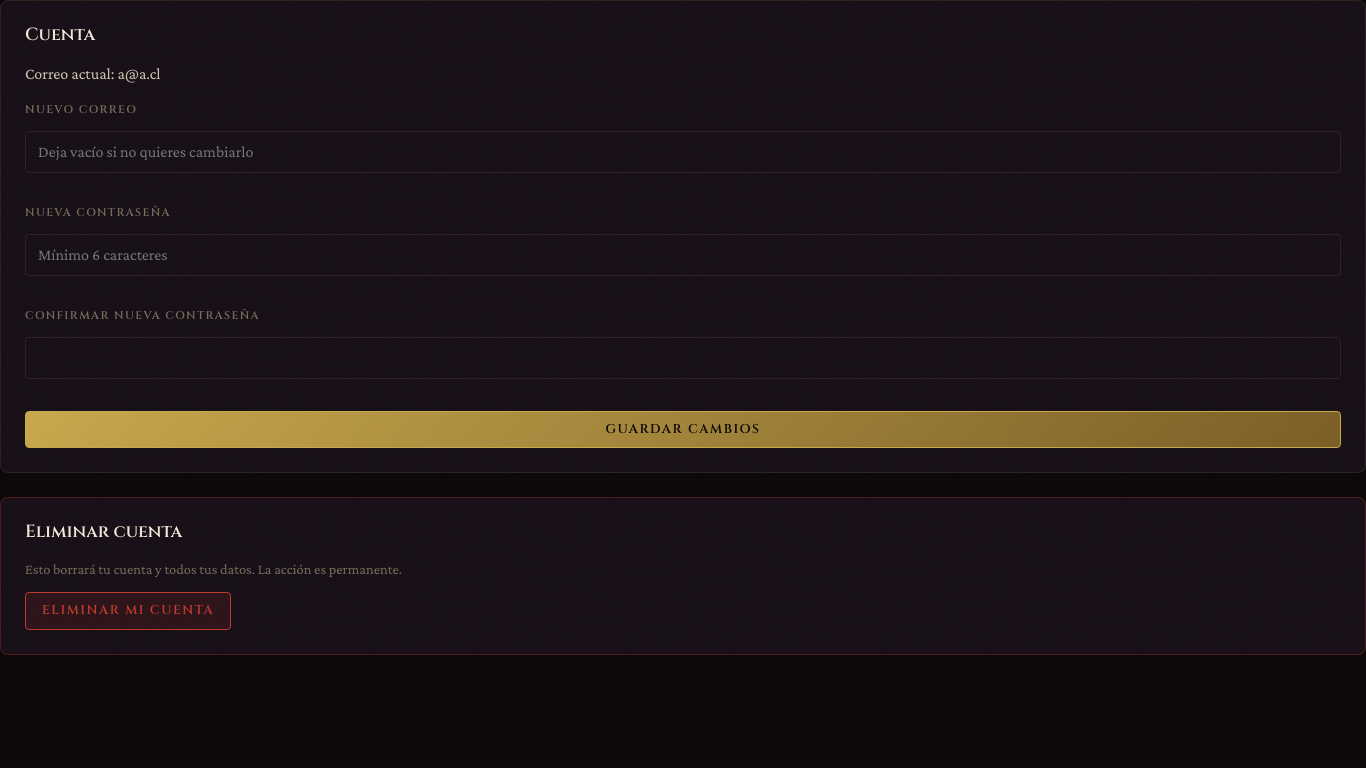
Scenario: CuentaTab › valida que la contraseña tenga al menos 6 caracteres
This screenshot has width=1366, height=768.
Type "abc" into the password field labelled "Nueva contraseña" at (683, 255), box [25, 234, 1341, 276]
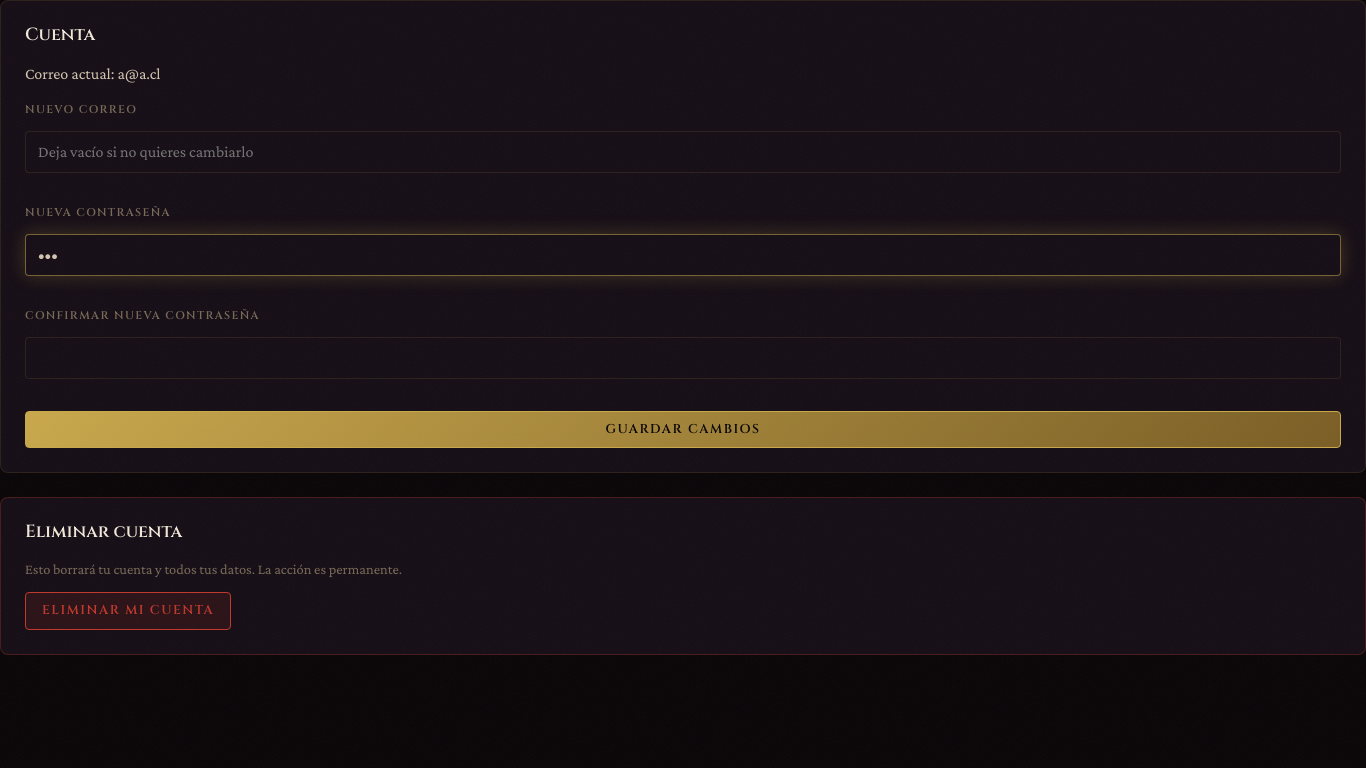
Type "abc" into the password field labelled "Confirmar nueva contraseña" at (683, 358), box [25, 336, 1341, 378]
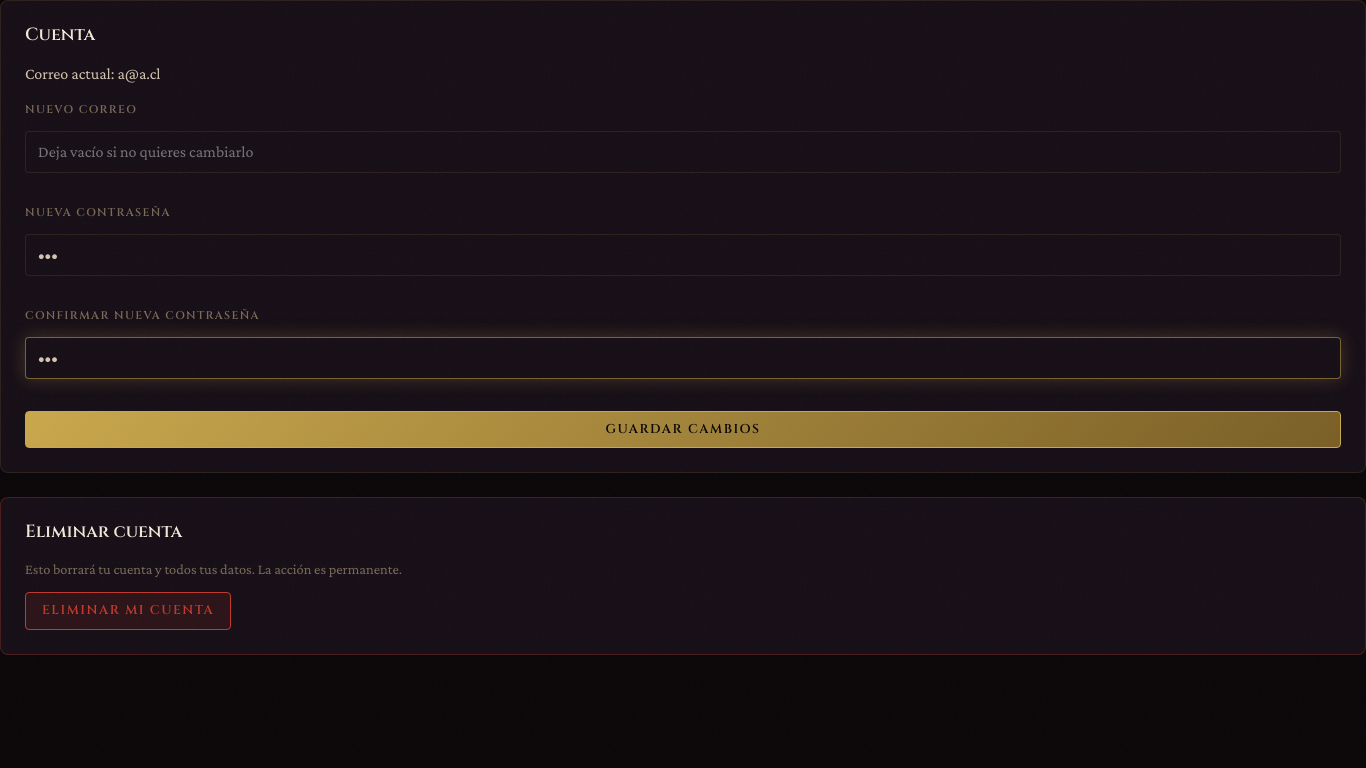
Click the button "Guardar cambios" at (683, 429), box [25, 410, 1341, 448]
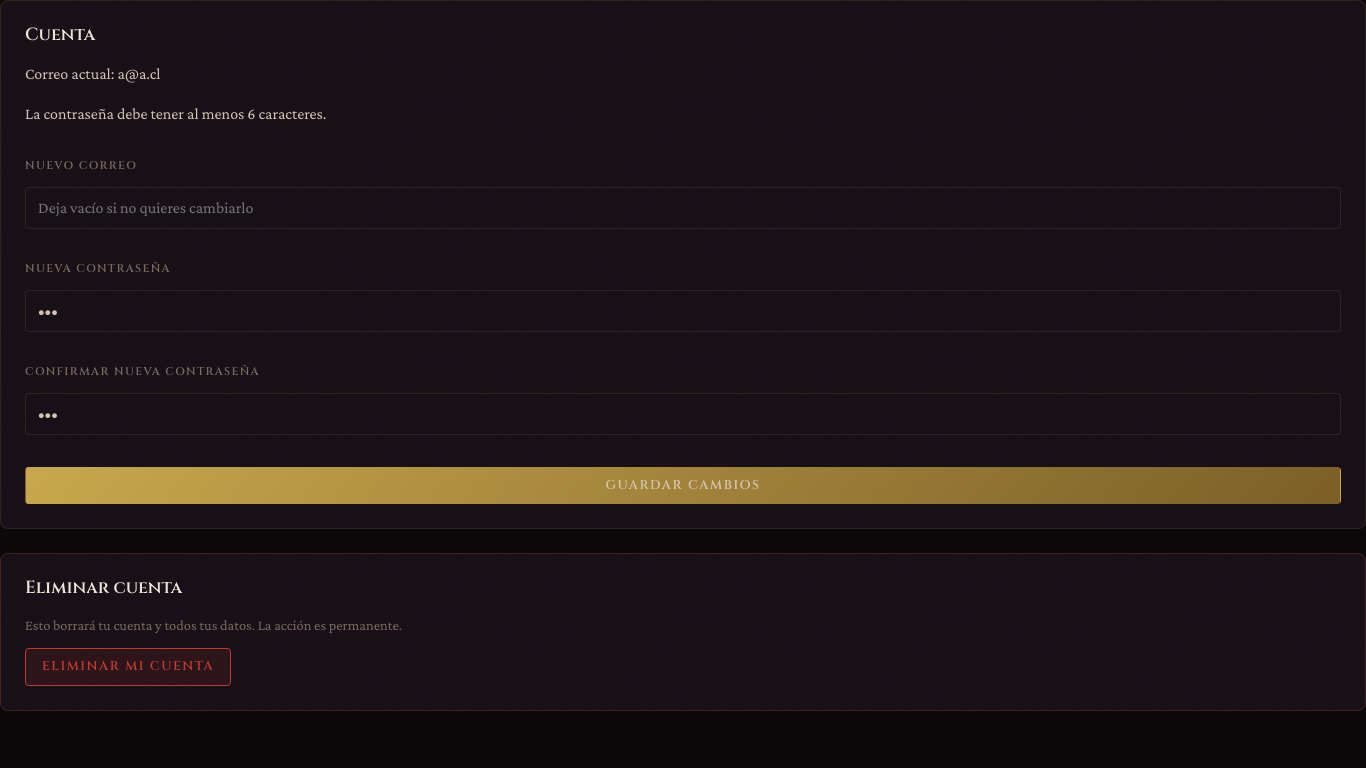
Expected: the text "La contraseña debe tener al menos 6 caracteres." is shown, [25, 105, 326, 122]
